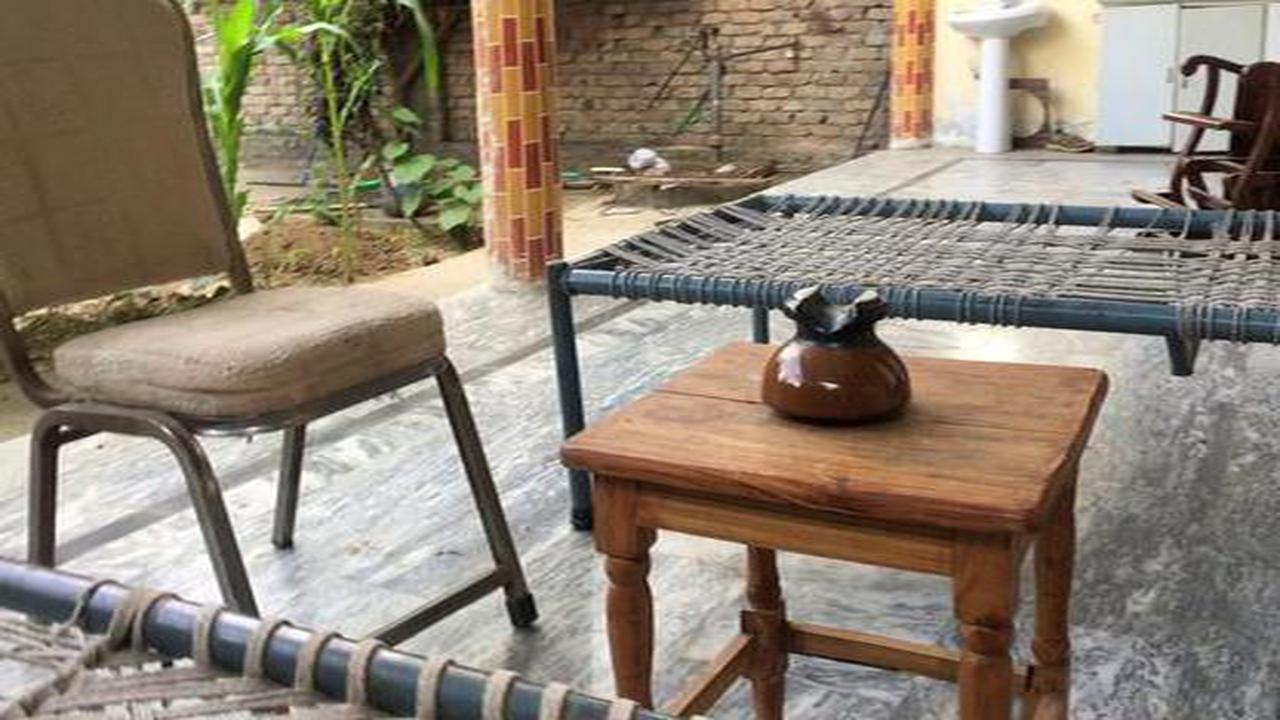insulator_pin: (751, 264, 933, 438)
